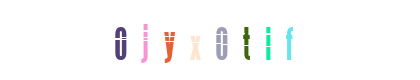0: (83, 0, 163, 80), (170, 0, 250, 80)
F: (243, 0, 323, 80)
I: (228, 0, 308, 80)
J: (112, 0, 192, 80)
T: (206, 0, 286, 80)
X: (170, 0, 250, 80)
Y: (129, 0, 209, 80)
